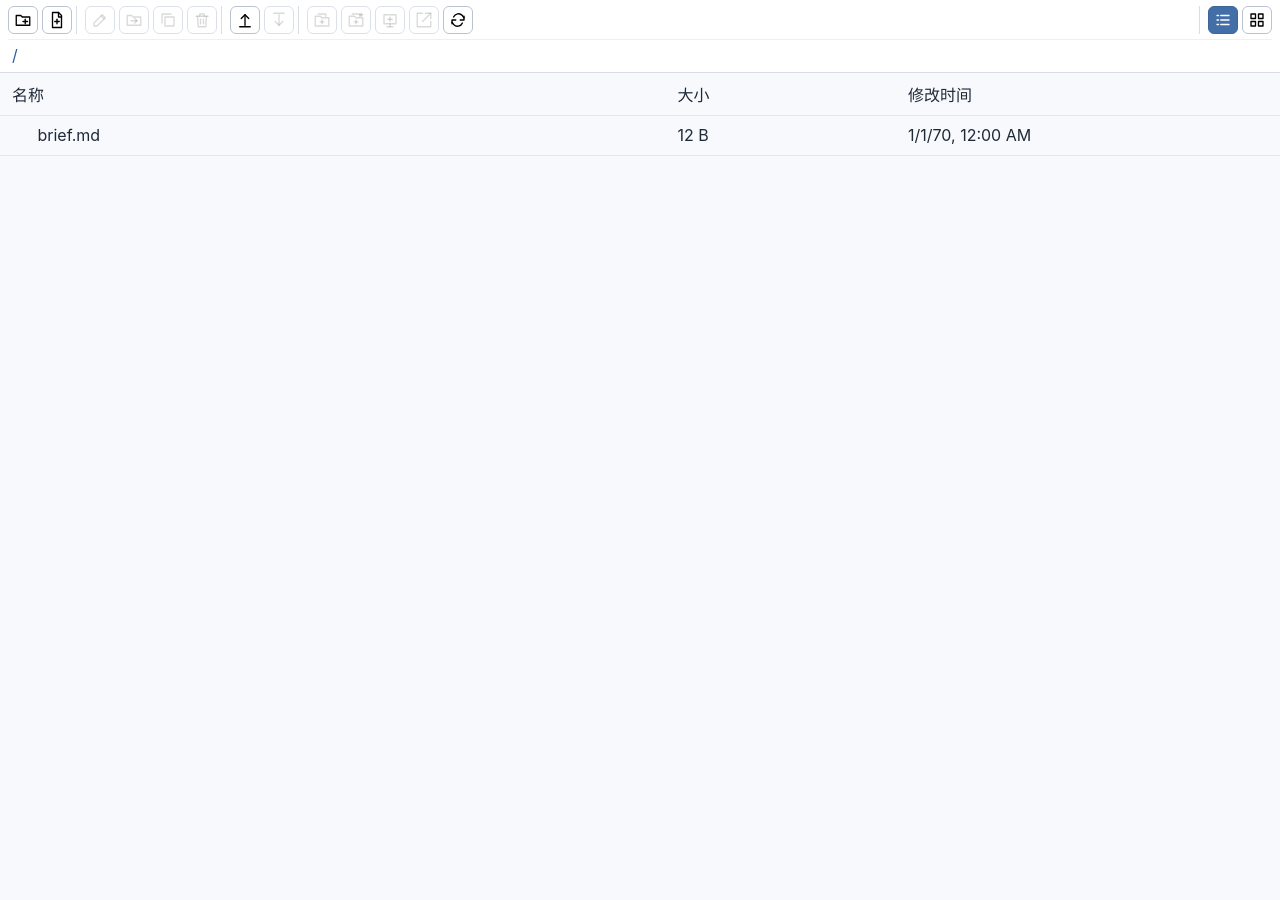
Test: FileManagerBrowser › adds a selected main file to an existing Workspace
Click the text "brief.md": (333, 135) [0, 116, 666, 155]
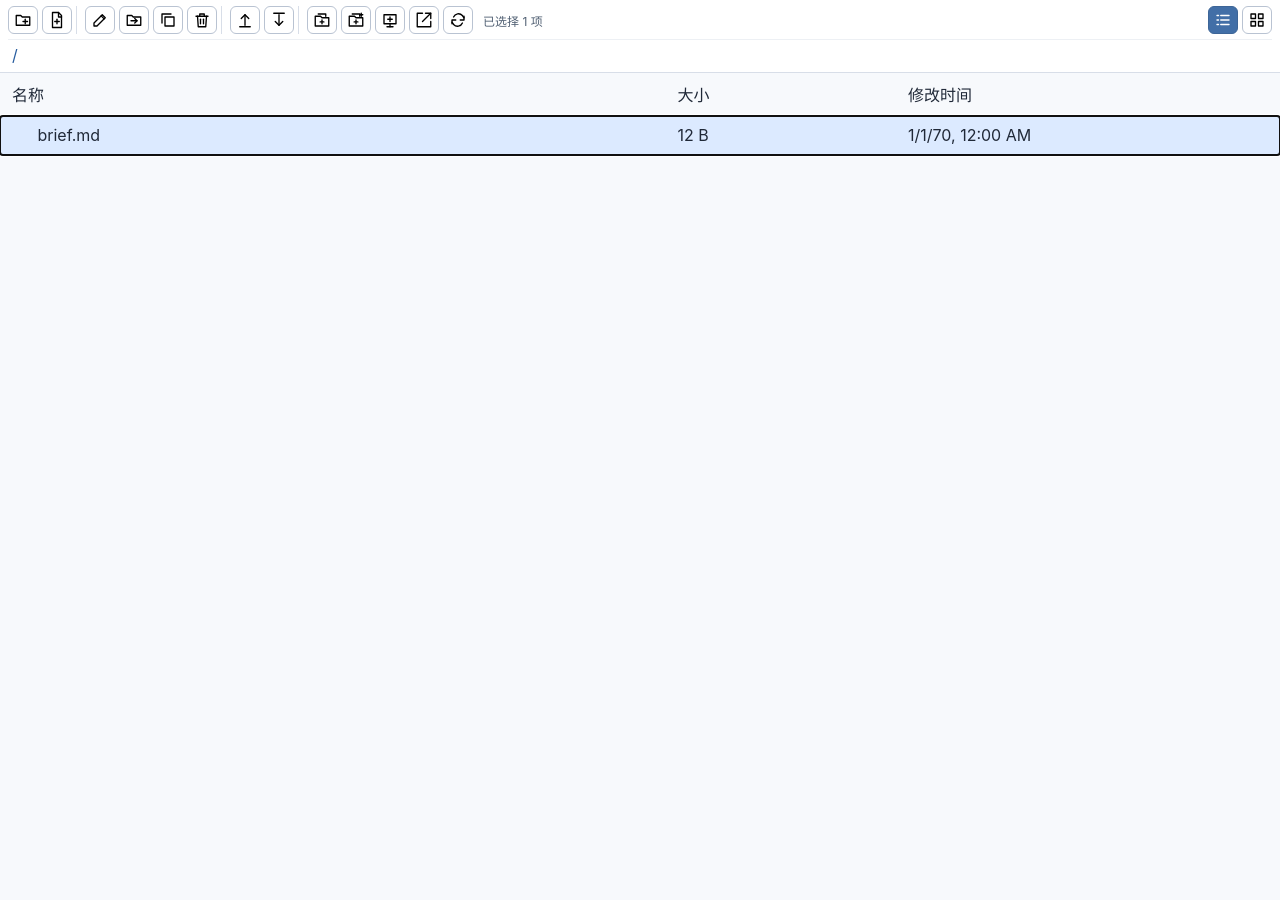
Click the button named "添加到工作空间": (356, 20) [341, 6, 371, 34]
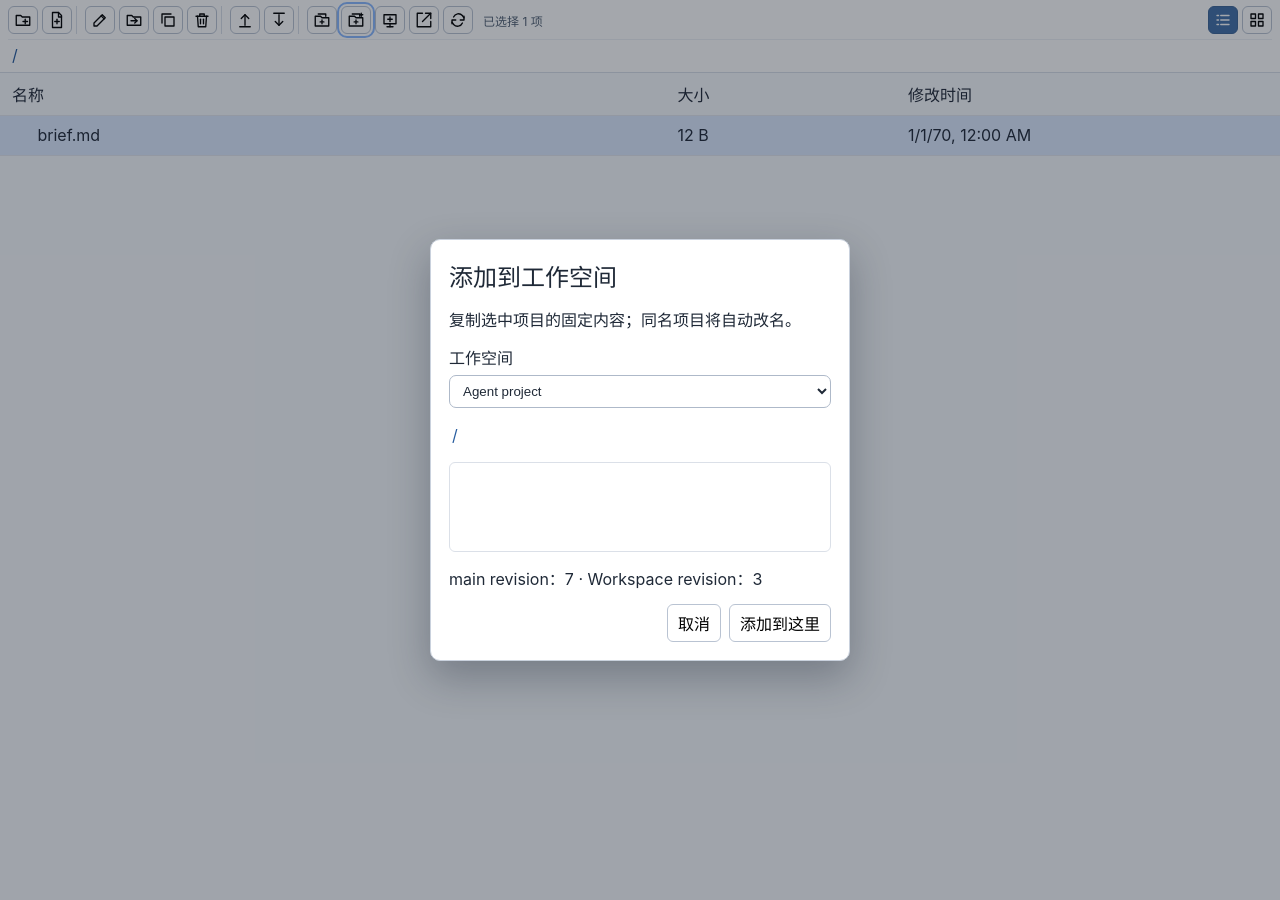
Click the button "添加到这里": (780, 623) [729, 604, 831, 642]
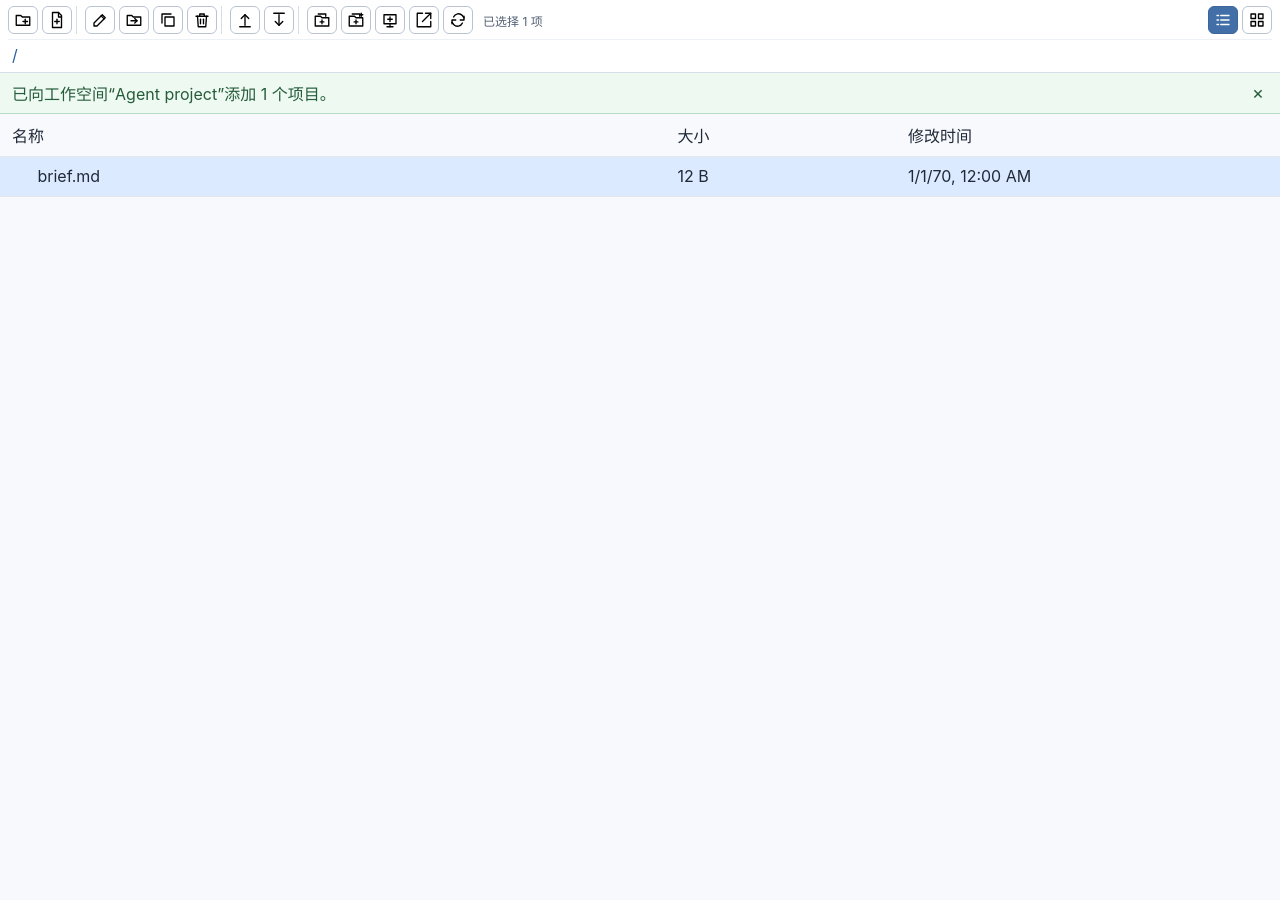
Check: the text "已向工作空间“Agent project”添加 1 个项目。" is shown, box [12, 84, 336, 104]
